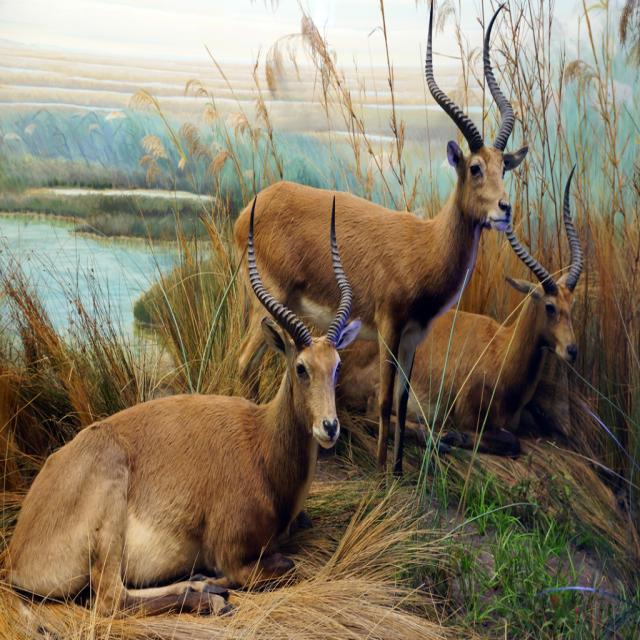Deer: (3, 195, 363, 622), (232, 0, 528, 489), (339, 163, 584, 455)
